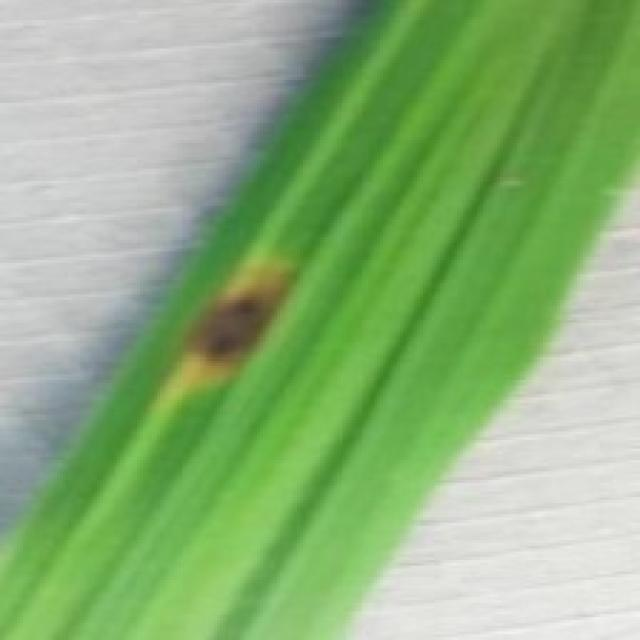Rice___Brown_Spot: (0, 0, 637, 637)
